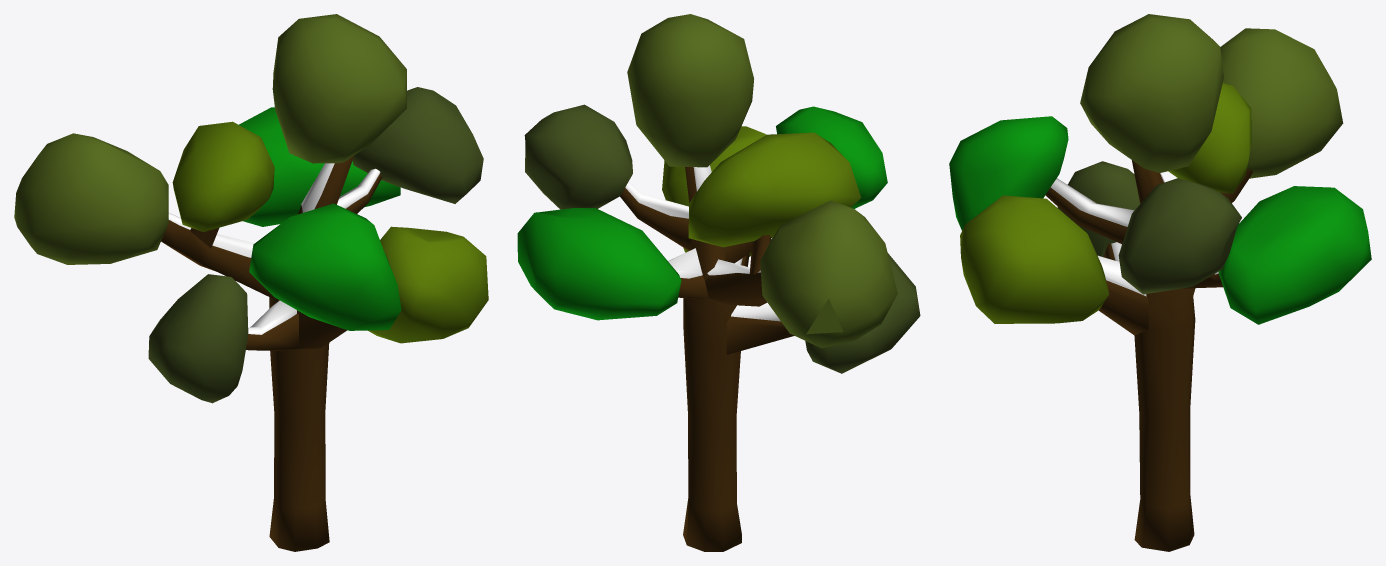
File: treeSnow.obj
3 views of the same model, side by side, from view 1: azimuth 30°, elevation 25°; view 2: azimuth 150°, elevation 25°; view 3: azimuth 270°, elevation 25° (orthographic). The views are drawn at different scales.
Visible parts, largest first — view 1: Arbre_Normal.002_Cylinder.001, Arbre_Normal_Cylinder.002, snow_Cylinder.005; view 2: Arbre_Normal.002_Cylinder.001, Arbre_Normal_Cylinder.002, snow_Cylinder.005; view 3: Arbre_Normal.002_Cylinder.001, Arbre_Normal_Cylinder.002, snow_Cylinder.005.
Part boxes in pixels (bbox=[...]): Arbre_Normal.002_Cylinder.001: bbox=[14, 14, 488, 403]; Arbre_Normal_Cylinder.002: bbox=[161, 155, 382, 551]; snow_Cylinder.005: bbox=[168, 163, 380, 334]; Arbre_Normal.002_Cylinder.001: bbox=[517, 14, 920, 373]; Arbre_Normal_Cylinder.002: bbox=[620, 167, 794, 551]; snow_Cylinder.005: bbox=[625, 165, 780, 321]; Arbre_Normal.002_Cylinder.001: bbox=[949, 14, 1371, 324]; Arbre_Normal_Cylinder.002: bbox=[1045, 160, 1252, 551]; snow_Cylinder.005: bbox=[1050, 173, 1218, 296].
Bounding box in the file's own units: 3.48 × 4.28 × 3.08.
